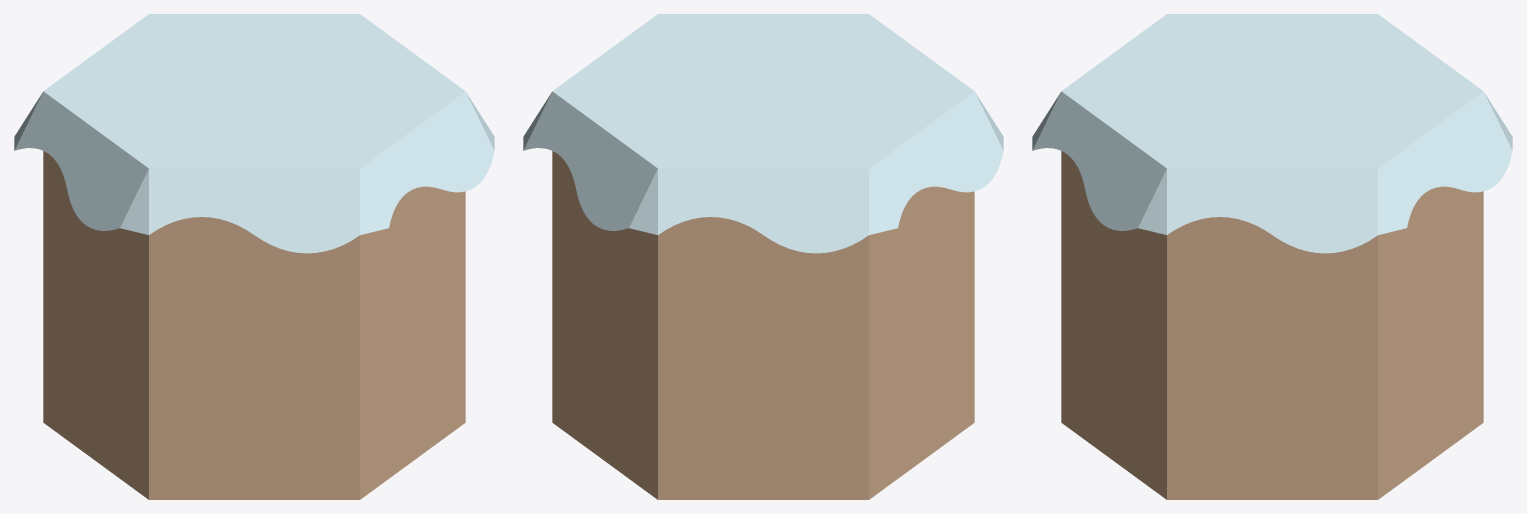
Rendered from blockSnowHexagon.glb.
3 renders of one model, left to right at view 1: azimuth 30°, elevation 25°; view 2: azimuth 150°, elevation 25°; view 3: azimuth 270°, elevation 25°, orthographic.
Visible parts, largest first — view 1: blockSnowHexagon; view 2: blockSnowHexagon; view 3: blockSnowHexagon.
Part boxes in pixels (<box>): blockSnowHexagon: <box>14,14,494,499</box>; blockSnowHexagon: <box>523,14,1003,499</box>; blockSnowHexagon: <box>1032,14,1512,499</box>.
Bounding box in the file's own units: 1.23 × 1 × 1.31.
